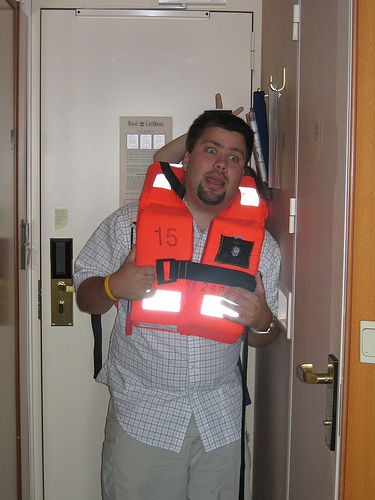head: (183, 111, 255, 206)
person: (75, 106, 286, 495)
